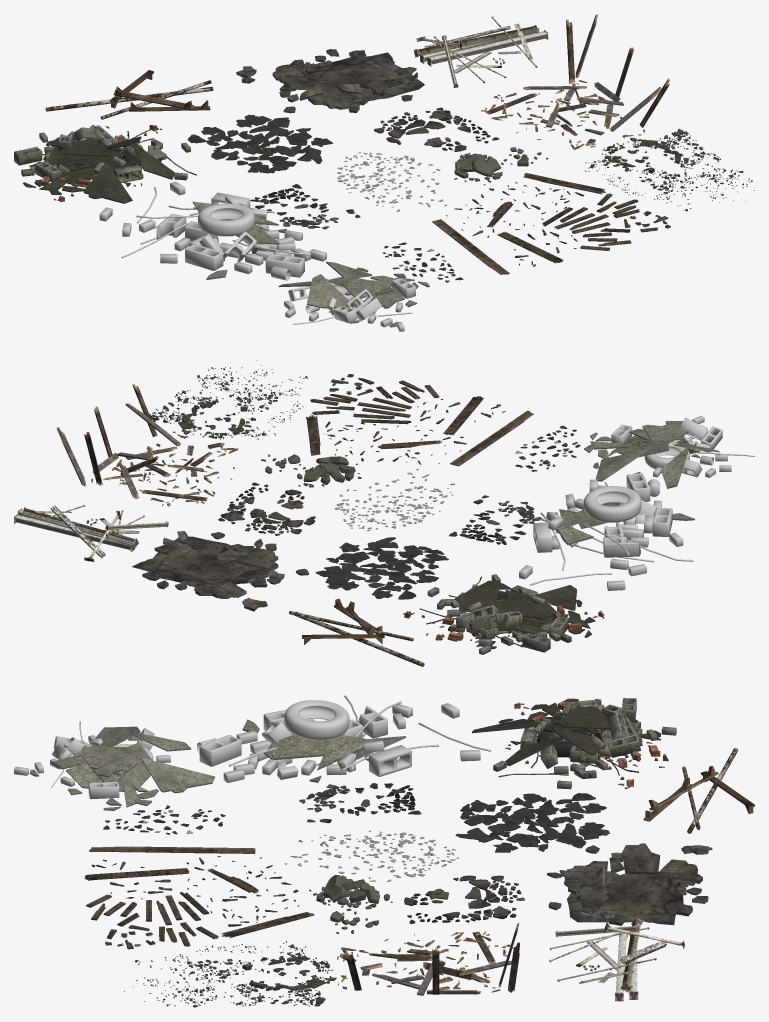
The model's file is COLLECTION_RubbleAndDebris_FBX.FBX.
The picture shows the model from 3 angles, top to bottom: view 1: azimuth 30°, elevation 25°; view 2: azimuth 150°, elevation 25°; view 3: azimuth 270°, elevation 25°; orthographic projection. The views are drawn at different scales.
Visible parts, largest first — view 1: JunkPile_01, Damage_ConcreteImpact, Pile 01, JunkPile02, DamagedFloorboards_000, WoodDebris, Damage_ConcreteRubble, Pile 02, Damage_BrokenPlaster_70, Junkpile01_Tyre, Damage_BrokenPlaster_41, Rubble_Pile_01 (+4 smaller); view 2: JunkPile_01, Damage_ConcreteImpact, JunkPile02, Pile 01, DamagedFloorboards_000, WoodDebris, Pile 02, Damage_ConcreteRubble, Damage_BrokenPlaster_70, Junkpile01_Tyre, Damage_BrokenPlaster_41, Rubble_Pile_01 (+4 smaller); view 3: JunkPile_01, Damage_ConcreteImpact, JunkPile02, Pile 01, DamagedFloorboards_000, WoodDebris, Damage_ConcreteRubble, Pile 02, Damage_BrokenPlaster_70, Junkpile01_Tyre, Damage_BrokenPlaster_41, Rubble_Pile_01 (+1 smaller).
Part boxes in pixels (x1,y1,x2,y2): JunkPile_01: (99, 181, 326, 280); Damage_ConcreteImpact: (236, 49, 424, 113); Pile 01: (23, 125, 174, 203); JunkPile02: (278, 261, 429, 331); DamagedFloorboards_000: (432, 173, 670, 274); WoodDebris: (481, 14, 669, 149); Damage_ConcreteRubble: (585, 129, 754, 211); Pile 02: (14, 131, 196, 182); Damage_BrokenPlaster_70: (374, 107, 499, 151); Junkpile01_Tyre: (198, 203, 254, 236); Damage_BrokenPlaster_41: (337, 152, 446, 211); Rubble_Pile_01: (454, 152, 512, 185); JunkPile_01: (519, 473, 694, 590); Damage_ConcreteImpact: (132, 531, 309, 611); JunkPile02: (584, 416, 754, 488); Pile 01: (419, 580, 595, 654); DamagedFloorboards_000: (306, 374, 533, 466); WoodDebris: (57, 384, 238, 506); Pile 02: (426, 574, 571, 652); Damage_ConcreteRubble: (149, 360, 307, 439); Damage_BrokenPlaster_70: (218, 482, 315, 535); Junkpile01_Tyre: (583, 486, 641, 522); Damage_BrokenPlaster_41: (334, 469, 454, 531); Rubble_Pile_01: (293, 456, 361, 487); JunkPile_01: (197, 695, 491, 782); Damage_ConcreteImpact: (547, 843, 712, 925); JunkPile02: (14, 721, 214, 810); Pile 01: (472, 698, 676, 778); DamagedFloorboards_000: (84, 846, 314, 949); WoodDebris: (337, 923, 519, 995); Damage_ConcreteRubble: (124, 941, 336, 1007); Pile 02: (493, 698, 660, 789); Damage_BrokenPlaster_70: (404, 875, 524, 923); Junkpile01_Tyre: (284, 700, 349, 739); Damage_BrokenPlaster_41: (284, 830, 458, 881); Rubble_Pile_01: (309, 875, 392, 914).
Bounding box in the file's own units: 2524 × 257 × 2554.
